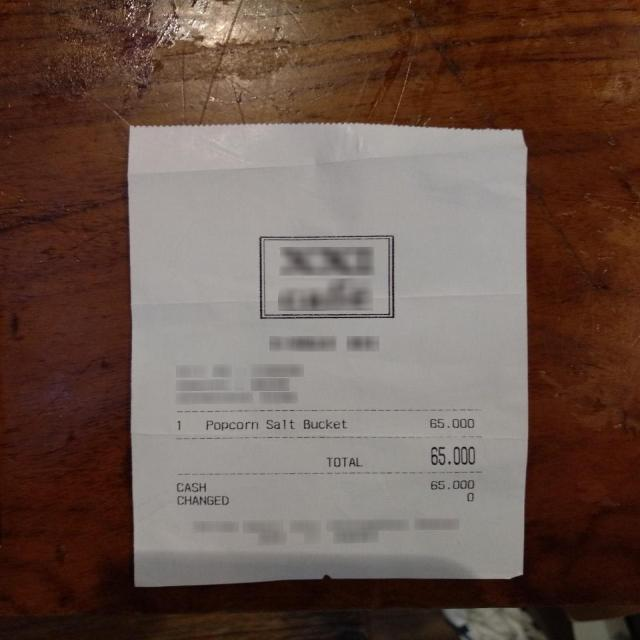kertas: (127, 120, 534, 587)
